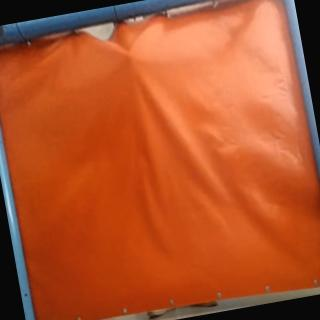Hit-hRxx: (118, 44, 148, 71)
